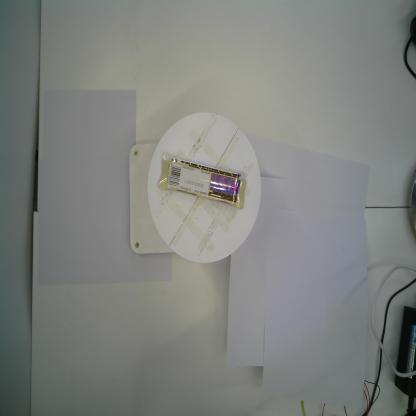Chocolate: (158, 153, 247, 210)
